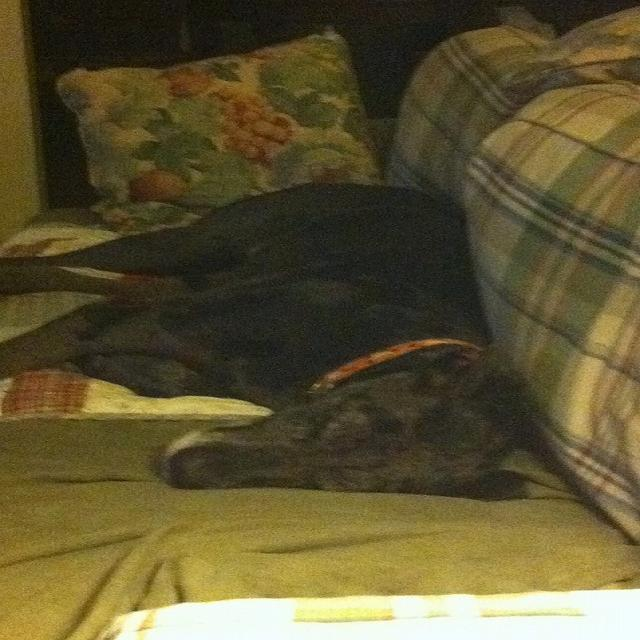dog: (0, 182, 524, 497)
